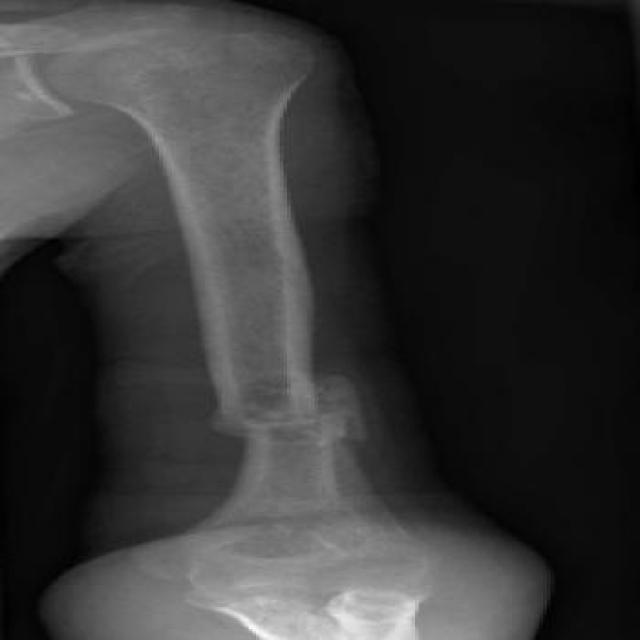fracture: (194, 376, 404, 464)
